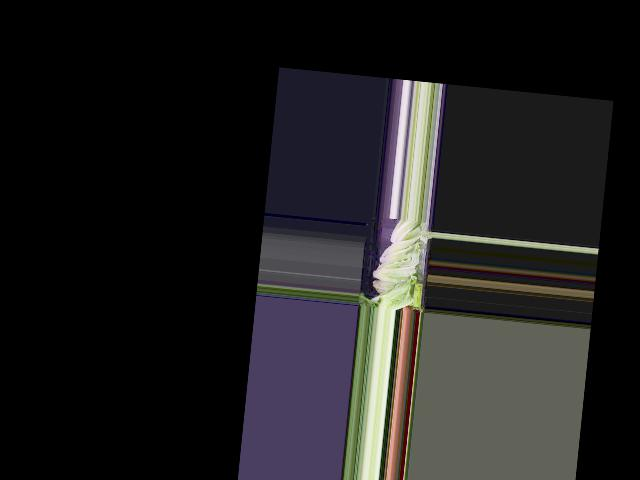lettuce: (388, 217, 420, 247)
